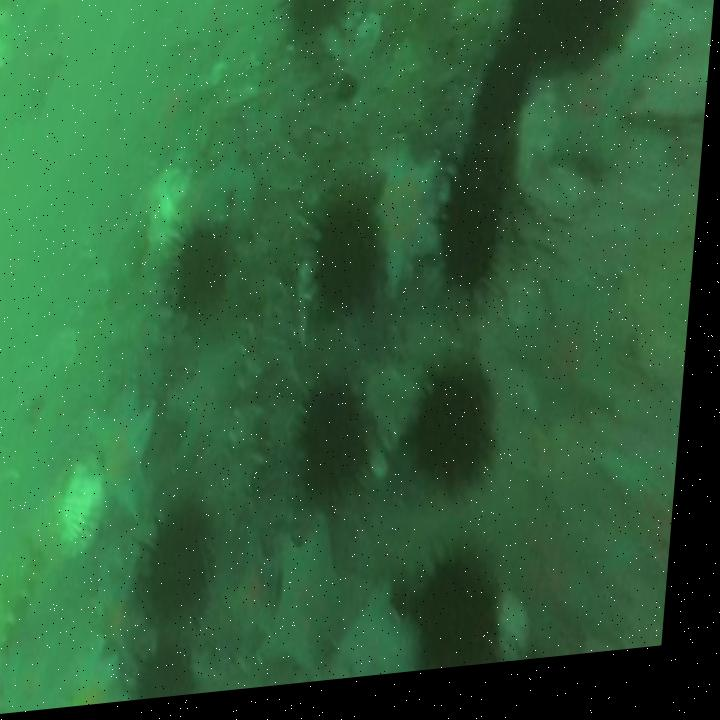echinus: (427, 565, 513, 681), (424, 387, 498, 499), (156, 511, 223, 625), (322, 207, 389, 319), (310, 392, 376, 502), (443, 203, 504, 305), (177, 230, 235, 321), (513, 0, 574, 73), (480, 48, 530, 136), (557, 0, 622, 57), (455, 160, 510, 218), (286, 0, 351, 35)
holothurian: (233, 361, 276, 524), (0, 541, 44, 668)
scallop: (67, 471, 115, 560), (142, 175, 193, 229), (356, 18, 384, 58)
starfish: (510, 290, 634, 449), (515, 524, 625, 672), (279, 517, 367, 674), (379, 141, 448, 303), (552, 54, 643, 176), (91, 393, 166, 527), (182, 349, 253, 466), (230, 542, 291, 669), (351, 591, 433, 684), (99, 557, 153, 671)
